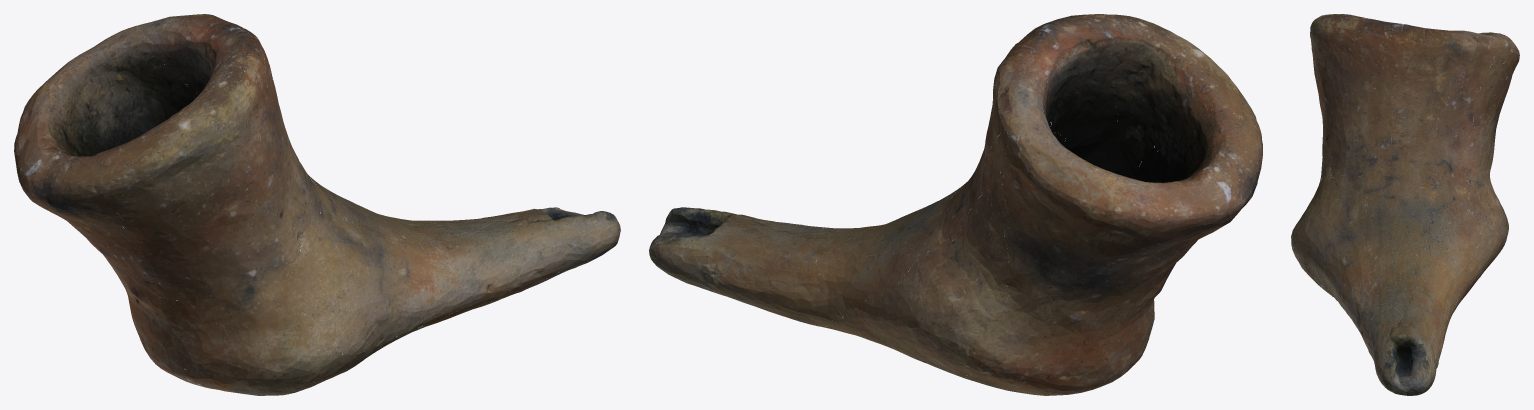
The model's file is Objeto_06_4k-b.glb.
The picture shows the model from 3 angles, left to right: view 1: azimuth 30°, elevation 25°; view 2: azimuth 150°, elevation 25°; view 3: azimuth 270°, elevation 25°; orthographic projection. The views are drawn at different scales.
Parts seen in each view (by area): view 1: Mesh_0; view 2: Mesh_0; view 3: Mesh_0.
Boxes of the visible parts, x1,y1,x2,y2 form: Mesh_0: [14, 14, 620, 395]; Mesh_0: [649, 14, 1262, 395]; Mesh_0: [1291, 14, 1519, 395].
Bounding box in the file's own units: 0.2088 × 0.1186 × 0.0949.
1 material, 1 textured.
